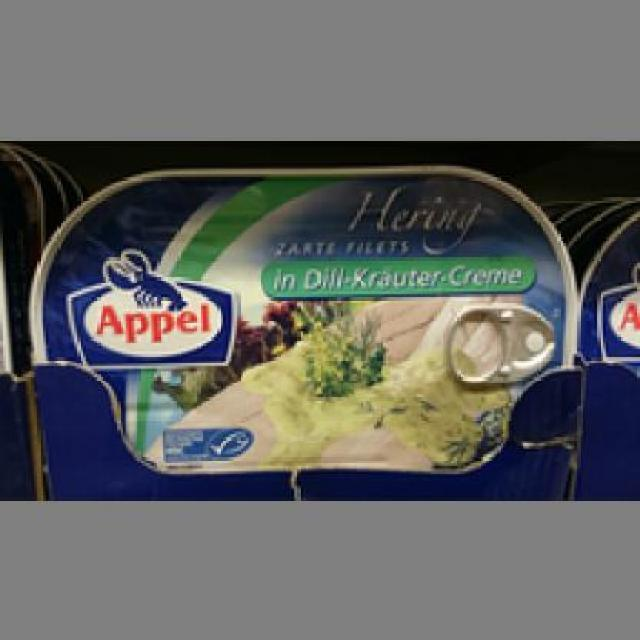Fish: (26, 165, 580, 468)
